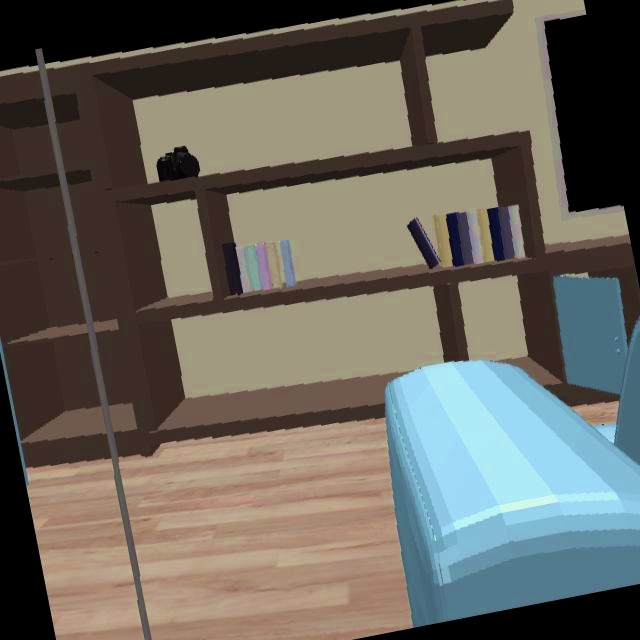book: (408, 207, 525, 272), (222, 242, 297, 297)
bookshelf: (92, 0, 549, 431)
monitor: (539, 10, 625, 219)
shelf: (0, 67, 111, 467), (48, 67, 151, 429)
sofa: (384, 317, 640, 628)
